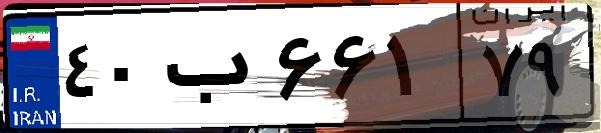0: (110, 28, 158, 98)
1: (385, 28, 445, 110)
4: (57, 26, 110, 100)
6: (270, 28, 330, 110), (330, 28, 385, 110)
7: (475, 38, 525, 113)
9: (525, 38, 570, 115)
ب: (158, 20, 270, 120)
